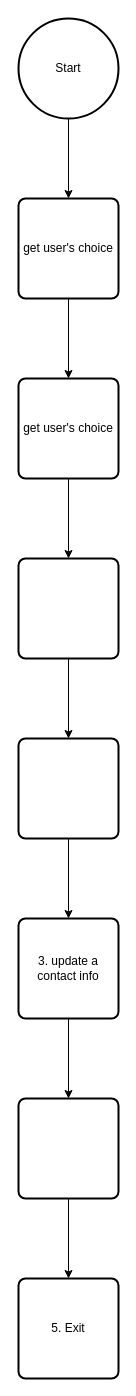
Some shapes in this 136 by 1396 pixel diagram are drawn without their labels. Each missing label, with the centre of its shape:
1. add a new contact: the point at 68,608
2. show all the contacts in the list: the point at 68,788
4. delete a contact: the point at 68,1148
